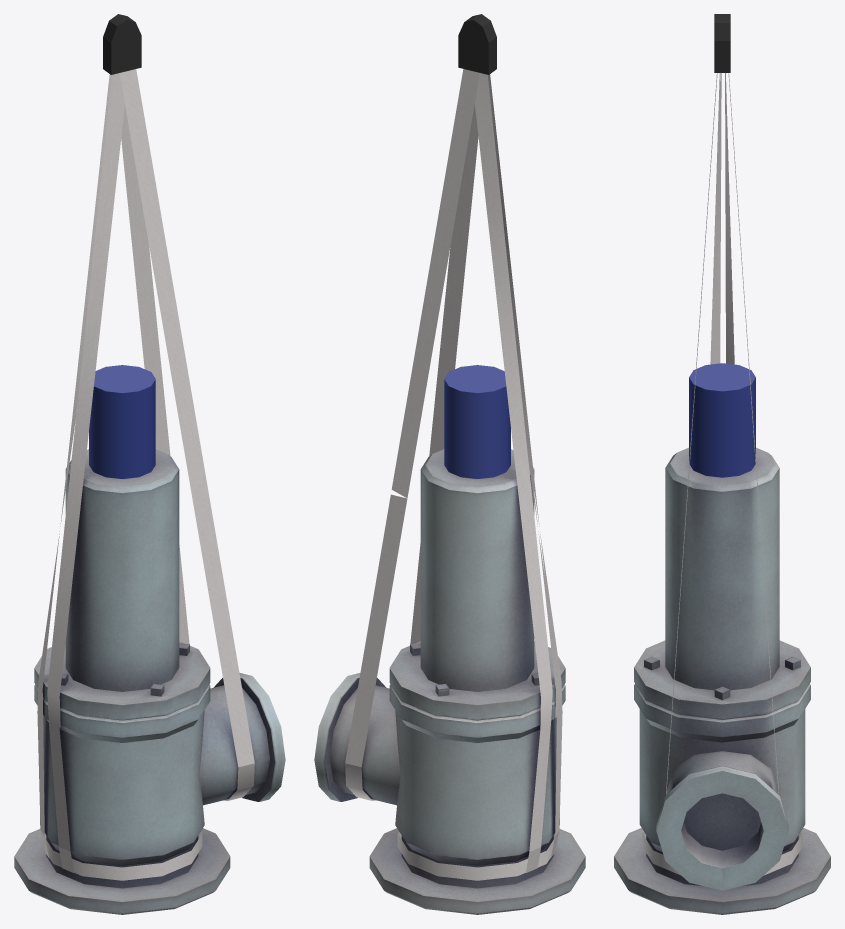
Rendered from eq_PSVvalve.fbx.
3 views of the same model, side by side, from view 1: azimuth 30°, elevation 25°; view 2: azimuth 150°, elevation 25°; view 3: azimuth 270°, elevation 25° (orthographic).
Parts seen in each view (by area): view 1: PSVvalve; view 2: PSVvalve; view 3: PSVvalve.
Part boxes in pixels (<box>): PSVvalve: <box>14,14,285,914</box>; PSVvalve: <box>314,14,585,914</box>; PSVvalve: <box>614,14,830,914</box>.
Bounding box in the file's own units: 1.69 × 6.14 × 1.41.
